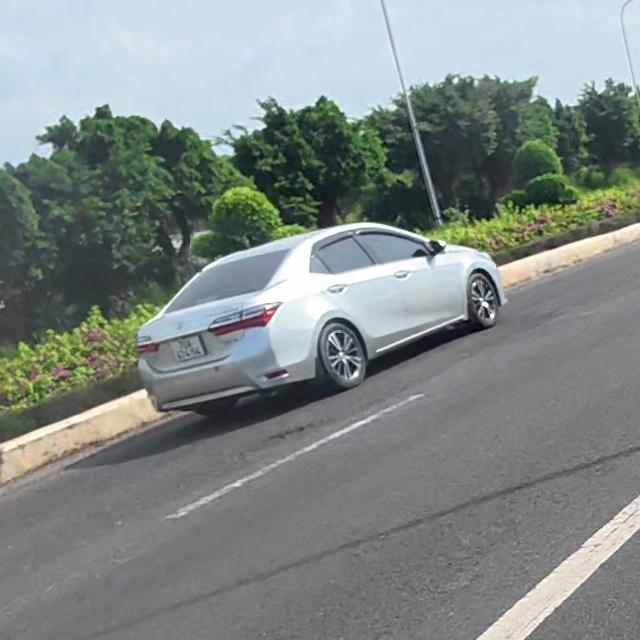license-plate: (168, 336, 207, 361)
